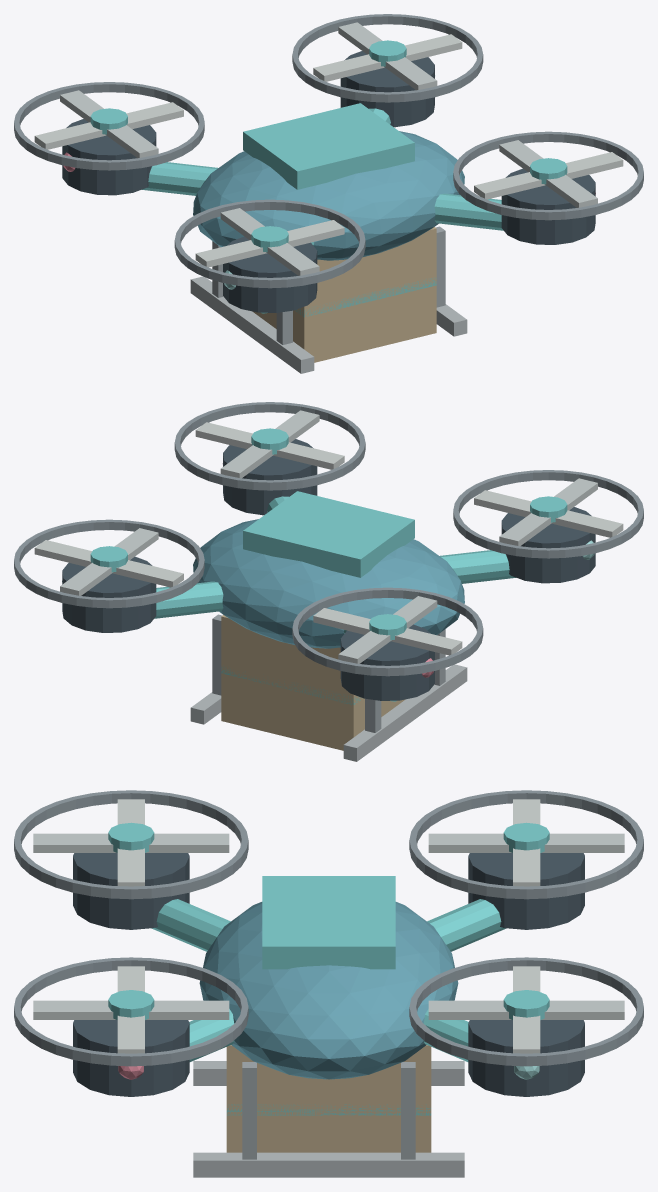
File: delivery.glb
The picture shows the model from 3 angles, top to bottom: view 1: azimuth 30°, elevation 25°; view 2: azimuth 150°, elevation 25°; view 3: azimuth 270°, elevation 25°; orthographic projection. The views are drawn at different scales.
Visible parts, largest first — view 1: delivery_body, cargo_payload, delivery_topdeck, rotor_guard_3, rotor_guard_1, rotor_guard_0, rotor_guard_2, motor_0, motor_1, motor_2, motor_3, landing_skid_-1 (+18 smaller); view 2: delivery_body, cargo_payload, delivery_topdeck, rotor_guard_0, rotor_guard_2, rotor_guard_3, rotor_guard_1, motor_3, motor_2, motor_1, motor_0, landing_skid_-1 (+17 smaller); view 3: delivery_body, cargo_payload, delivery_topdeck, landing_skid_1, rotor_guard_0, rotor_guard_3, rotor_guard_1, rotor_guard_2, motor_0, motor_3, motor_1, motor_2 (+20 smaller).
Boxes of the visible parts, x1=… form: delivery_body: x1=193, y1=131, x2=464, y2=260; cargo_payload: x1=252, y1=227, x2=436, y2=362; delivery_topdeck: x1=243, y1=103, x2=414, y2=189; rotor_guard_3: x1=292, y1=14, x2=483, y2=102; rotor_guard_1: x1=174, y1=199, x2=365, y2=288; rotor_guard_0: x1=453, y1=131, x2=643, y2=220; rotor_guard_2: x1=14, y1=82, x2=204, y2=170; motor_0: x1=501, y1=168, x2=595, y2=244; motor_1: x1=223, y1=236, x2=317, y2=312; motor_2: x1=62, y1=119, x2=156, y2=195; motor_3: x1=340, y1=51, x2=434, y2=127; landing_skid_-1: x1=190, y1=276, x2=314, y2=373; delivery_body: x1=193, y1=519, x2=464, y2=648; cargo_payload: x1=221, y1=615, x2=405, y2=750; delivery_topdeck: x1=243, y1=491, x2=414, y2=577; rotor_guard_0: x1=174, y1=402, x2=365, y2=490; rotor_guard_2: x1=292, y1=587, x2=483, y2=676; rotor_guard_3: x1=14, y1=519, x2=204, y2=608; rotor_guard_1: x1=453, y1=470, x2=643, y2=558; motor_3: x1=62, y1=556, x2=156, y2=632; motor_2: x1=340, y1=624, x2=434, y2=700; motor_1: x1=501, y1=507, x2=595, y2=583; motor_0: x1=223, y1=439, x2=317, y2=515; landing_skid_-1: x1=343, y1=664, x2=467, y2=761; delivery_body: x1=199, y1=902, x2=458, y2=1079; cargo_payload: x1=226, y1=1045, x2=431, y2=1152; delivery_topdeck: x1=262, y1=876, x2=395, y2=969; landing_skid_1: x1=193, y1=1152, x2=464, y2=1177; rotor_guard_0: x1=14, y1=957, x2=248, y2=1066; rotor_guard_3: x1=409, y1=957, x2=643, y2=1066; rotor_guard_1: x1=14, y1=790, x2=248, y2=899; rotor_guard_2: x1=409, y1=790, x2=643, y2=899; motor_0: x1=73, y1=1020, x2=189, y2=1096; motor_3: x1=468, y1=1020, x2=584, y2=1096; motor_1: x1=73, y1=853, x2=189, y2=929; motor_2: x1=468, y1=853, x2=584, y2=929.
Size of the model in its own units: 1.43 by 0.5605 by 1.43.
